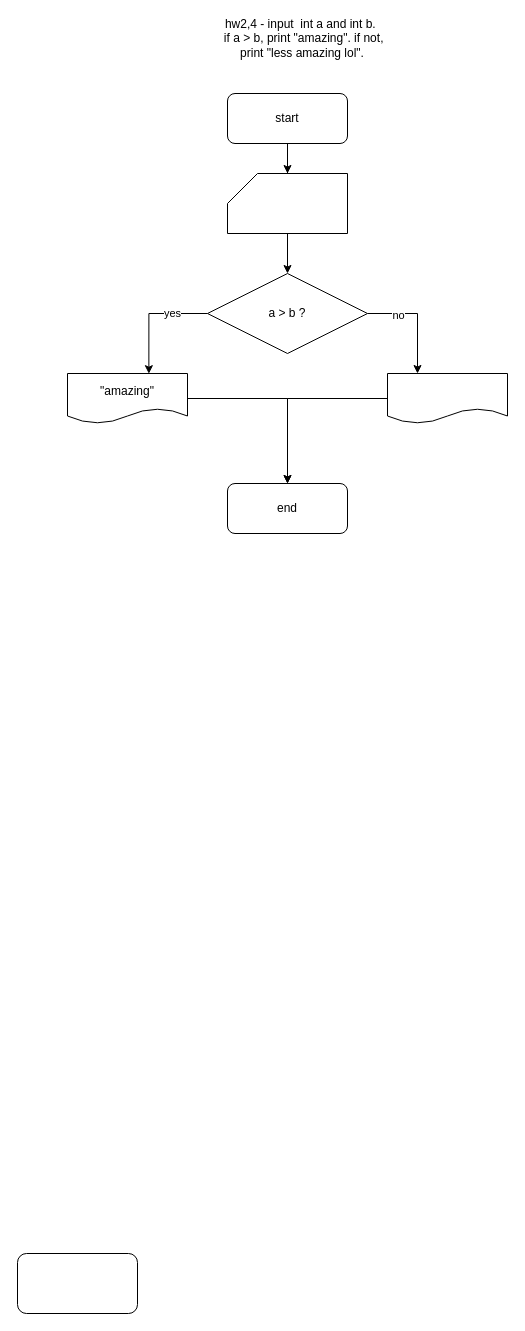
This 525x1331 diagram has some shape labels left out. Here are the shapes that lost their labels. From the top down, the centre of each, then its label:
point (287, 203): a: int b: int "enter a number"
point (447, 398): "less amazing lol"
